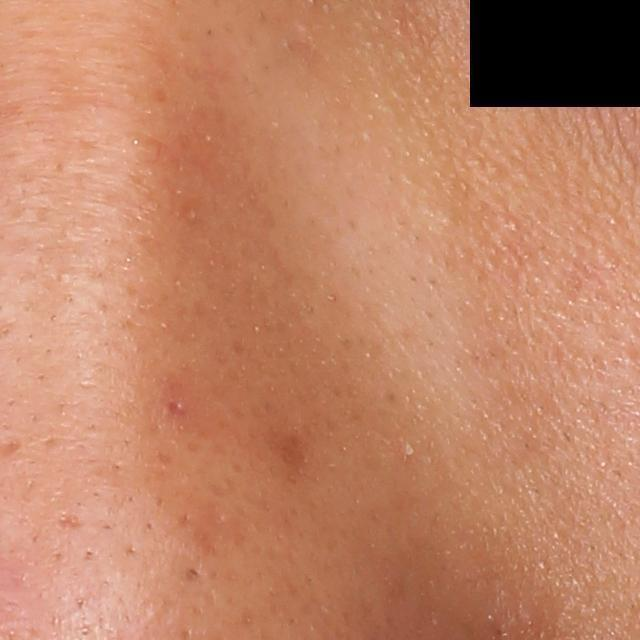atrophic_scar: (56, 511, 83, 532)
